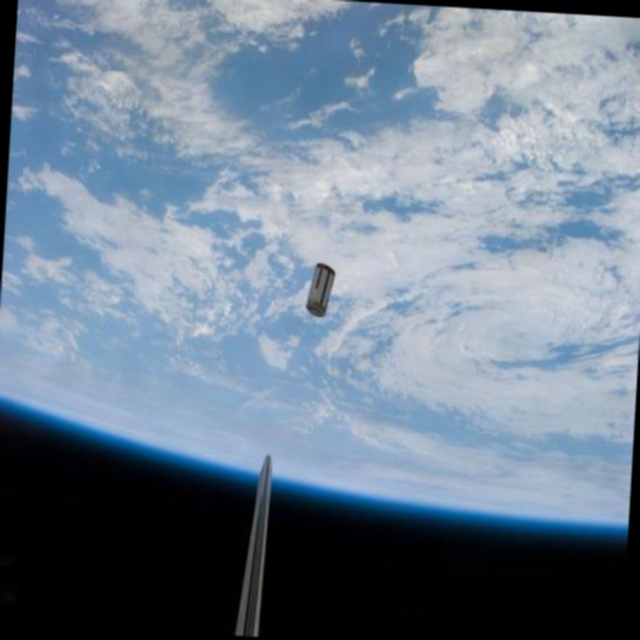medium_debris: (301, 257, 344, 319)
